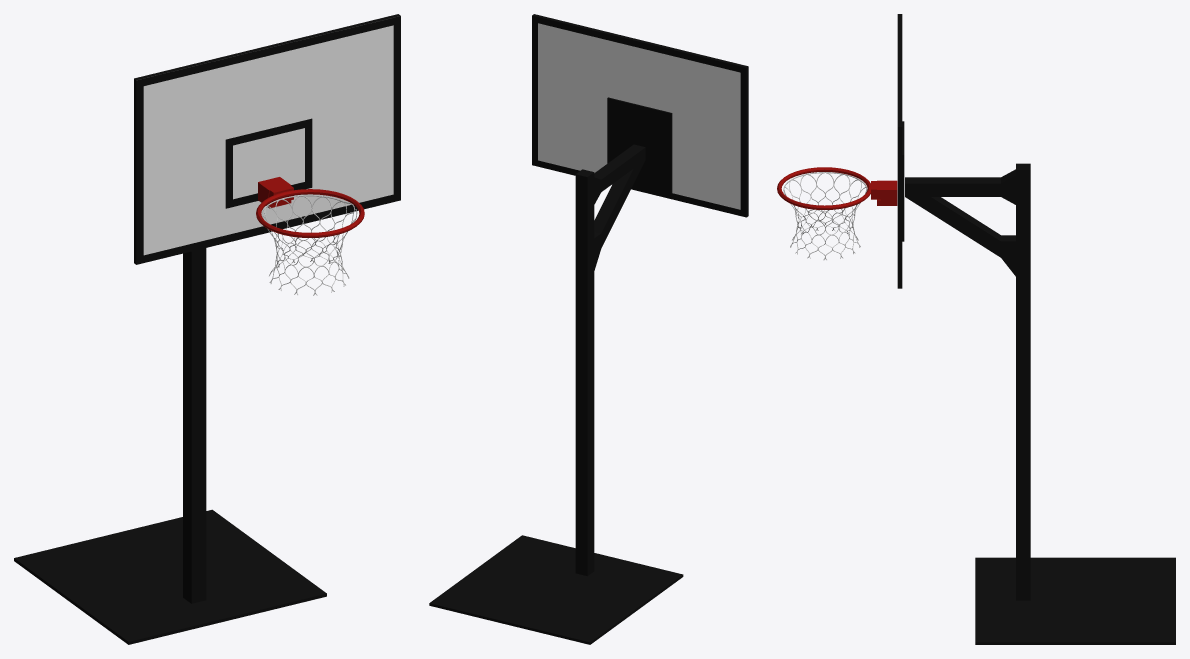
The model's file is backboard2.fbx.
3 views of the same model, side by side, from view 1: azimuth 30°, elevation 25°; view 2: azimuth 150°, elevation 25°; view 3: azimuth 270°, elevation 25° (orthographic). The views are drawn at different scales.
Visible parts, largest first — view 1: Box001, Box009, Shape015, Tube001, Plane001; view 2: Box009, Box001; view 3: Box009, Tube001, Shape015, Box001.
Part boxes in pixels (x1,y1,x2,y2): Box001: [134, 14, 400, 264]; Box009: [14, 248, 326, 644]; Shape015: [261, 195, 357, 295]; Tube001: [256, 177, 364, 237]; Plane001: [225, 118, 312, 208]; Box009: [429, 97, 683, 644]; Box001: [532, 14, 748, 217]; Box009: [902, 121, 1175, 644]; Tube001: [777, 167, 897, 210]; Shape015: [783, 172, 867, 260]; Box001: [897, 14, 902, 288].
Bounding box in the file's own units: 180 × 394 × 268.
